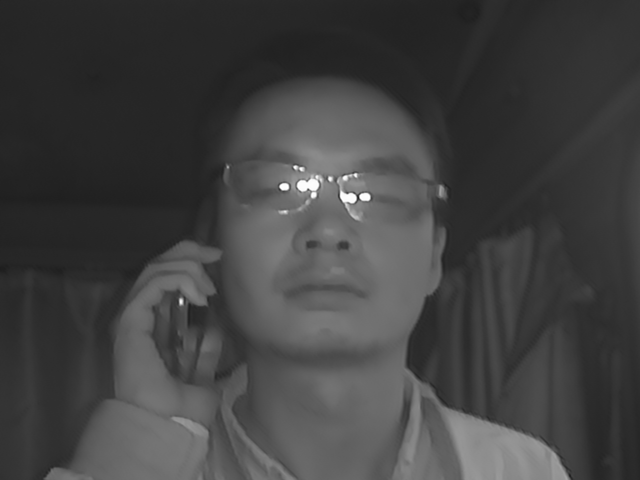hand: (108, 233, 228, 425)
